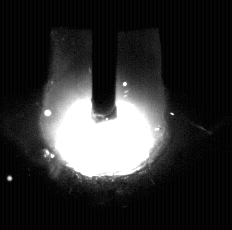arame: (92, 0, 117, 123)
poca: (38, 0, 169, 230)
